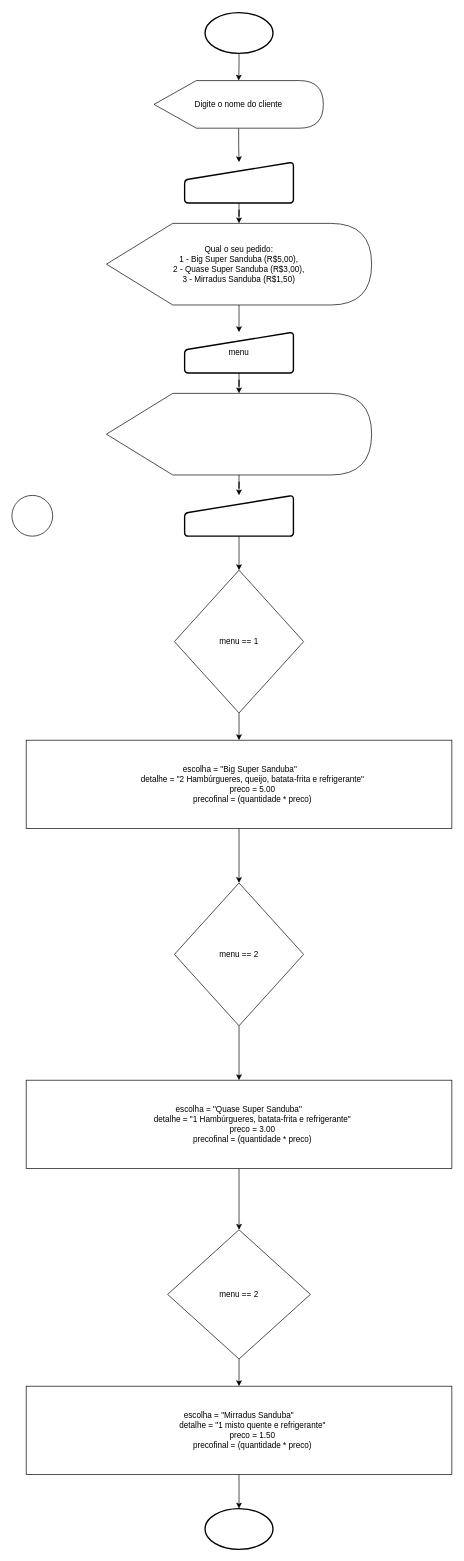
The diagram is 464 pixels wide and 1561 high, and some of its shapes have lost their labels. The shapes that lost their labels are listed below. From the top down, each one's centre as x and y in pixels, then its label:
At point 238,33: "inicio".
At point 239,182: "nomecliente".
At point 239,434: "Digite a quantidade do pedido".
At point 239,515: "quantidade".
At point 238,1529: "fim".
